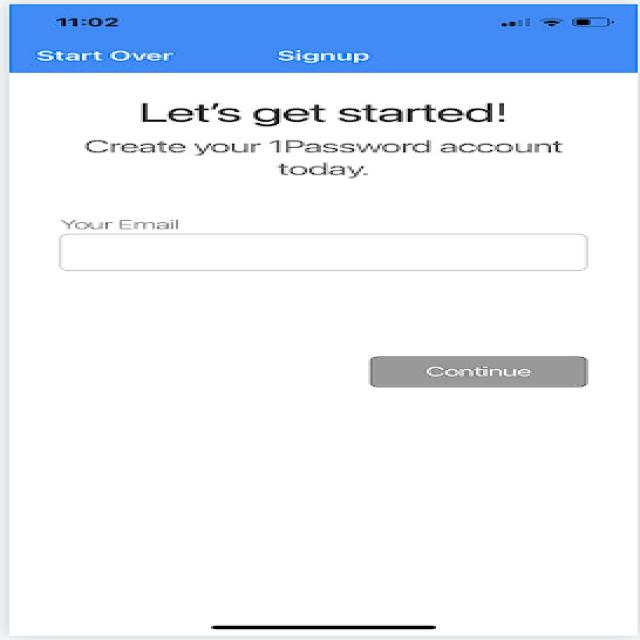button: (320, 329, 610, 402)
input: (39, 207, 619, 284)
text: (59, 93, 589, 184)
